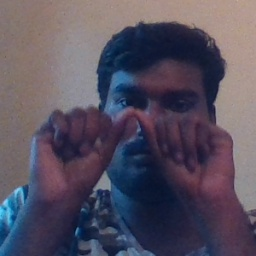A: (58, 100, 202, 205)
